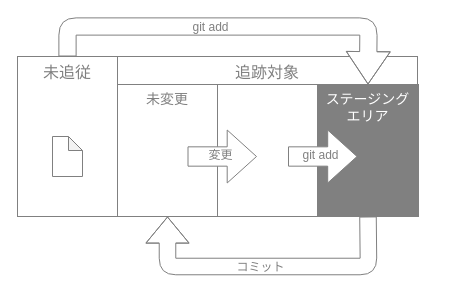
Image size: 463x292. Some labels were removed from this diagram. The centre of each missing label's shape, as x and y in pixels:
new!: [67,156]
変更済み: [267,150]
